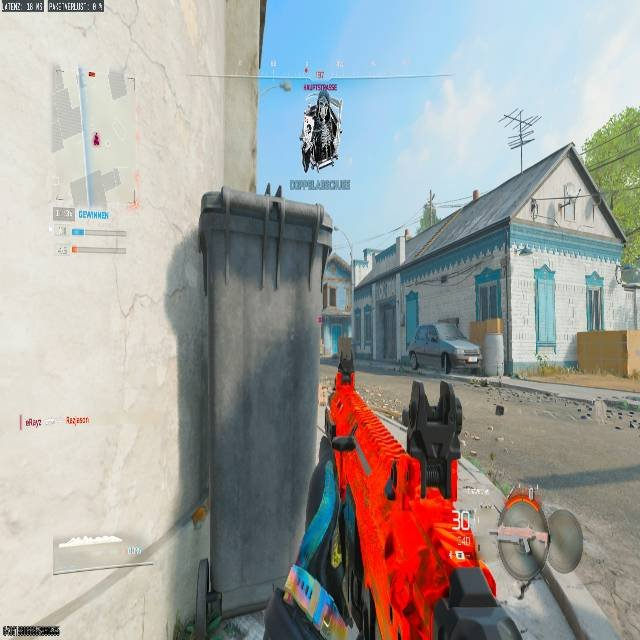player: (301, 92, 341, 170)
